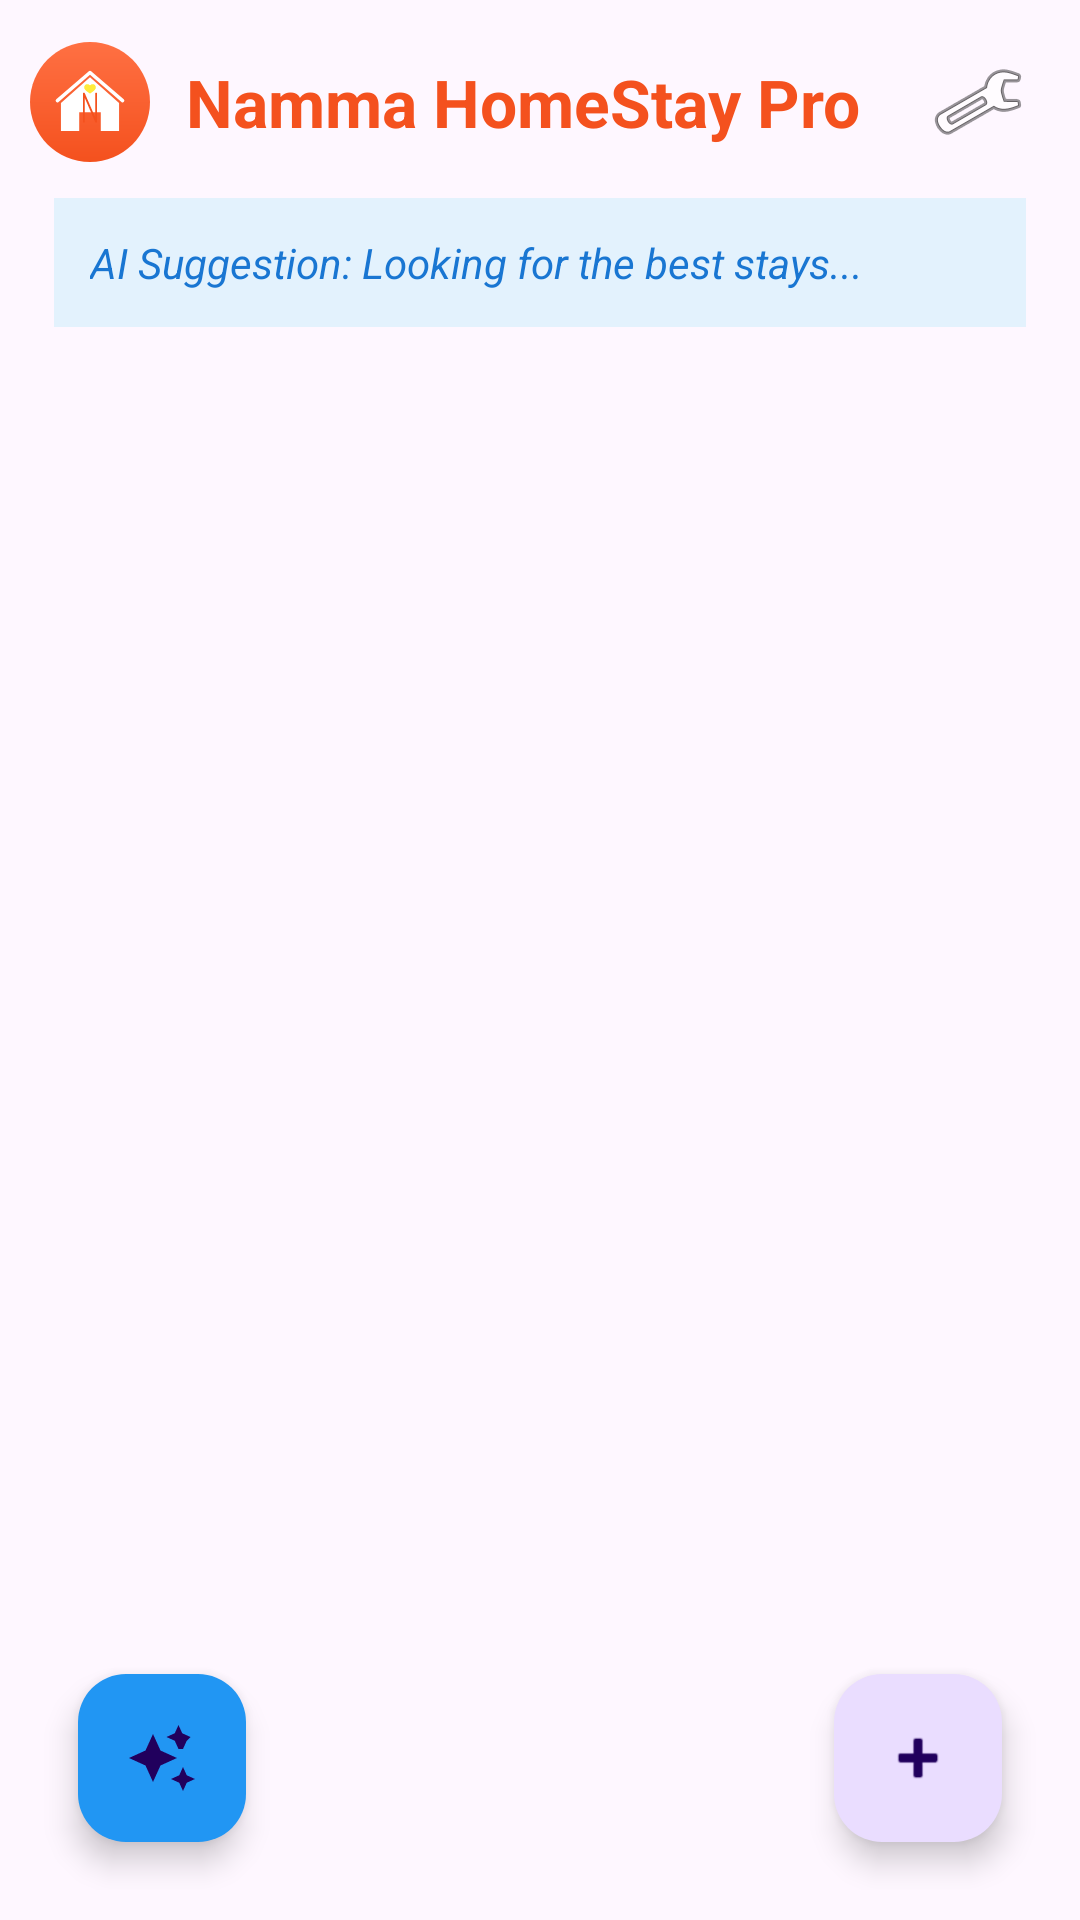

Icons on this 1080px×1920px Android screen, each with the point to tap as (x=x, y=y):
Add Property: (x=918, y=1758)
AI Assistant: (x=162, y=1758)
Settings: (x=978, y=102)
